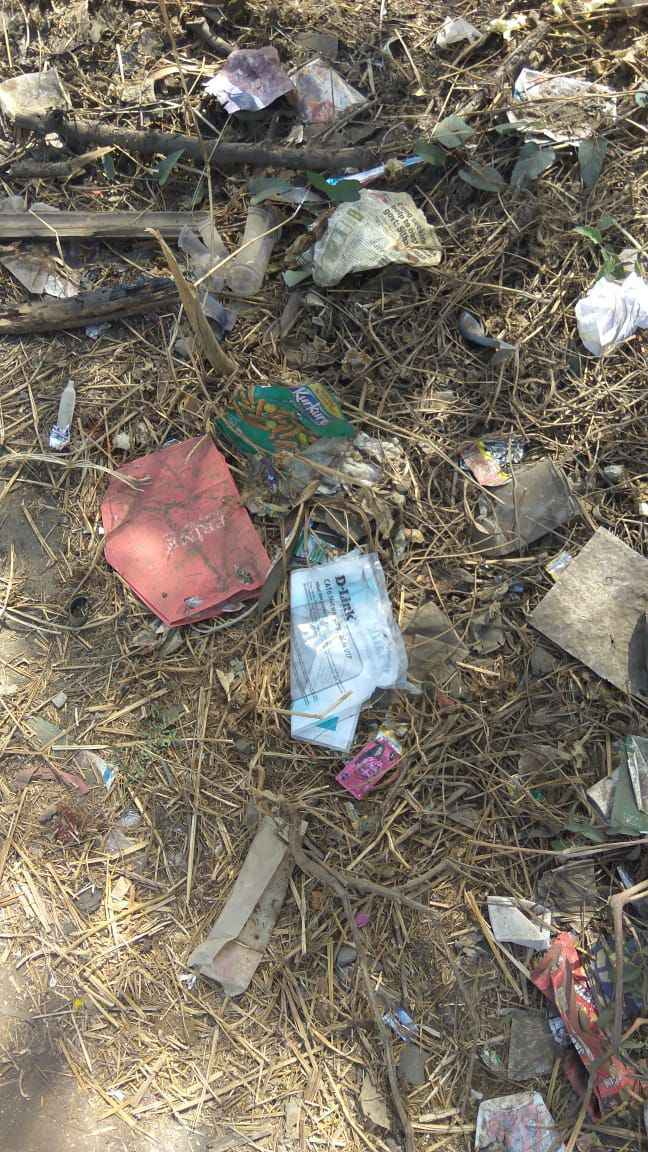kurkure: (285, 385, 342, 433)
